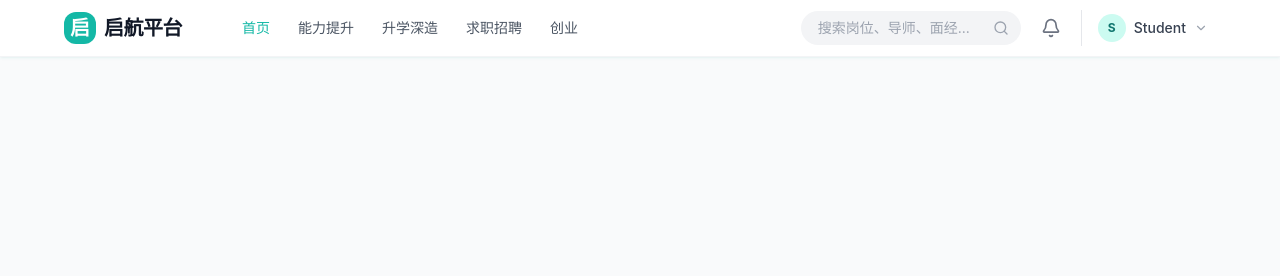
Test: Navbar - comprehensive layout and component tests › Authenticated user menu › toggles user dropdown menu on click
The image size is (1280, 276).
Note: Click to open dropdown
Click the button with aria-label "用户菜单" at (1153, 28), box [1090,10,1216,46]
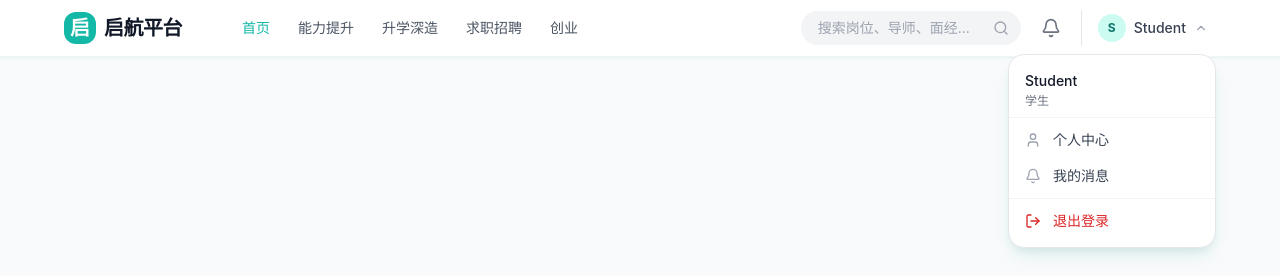
Check: the link "个人中心" is shown, box [1025,131,1109,148]
Check: the link "我的消息" is shown, box [1025,167,1109,184]
Check: the button "退出登录" is shown, box [1009,203,1215,239]
